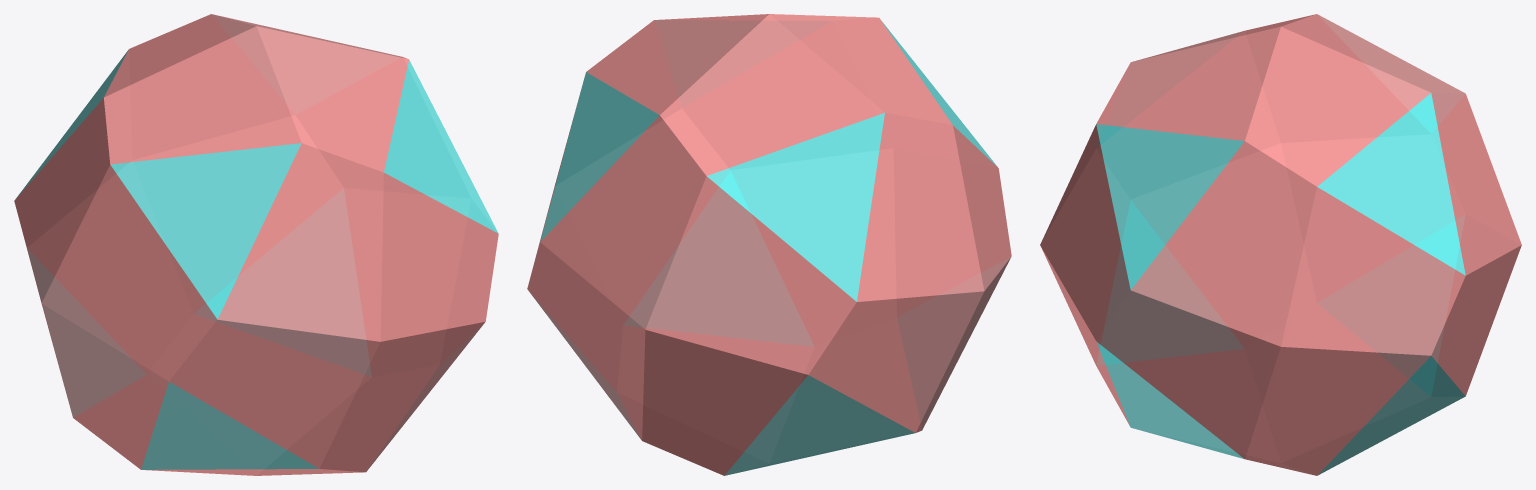
Rendered from BiscribedPropelloOctahedron.obj.
3 renders of one model, left to right at view 1: azimuth 30°, elevation 25°; view 2: azimuth 150°, elevation 25°; view 3: azimuth 270°, elevation 25°, orthographic. The views are drawn at different scales.
Bounding box in the file's own units: 2 × 2 × 2.
